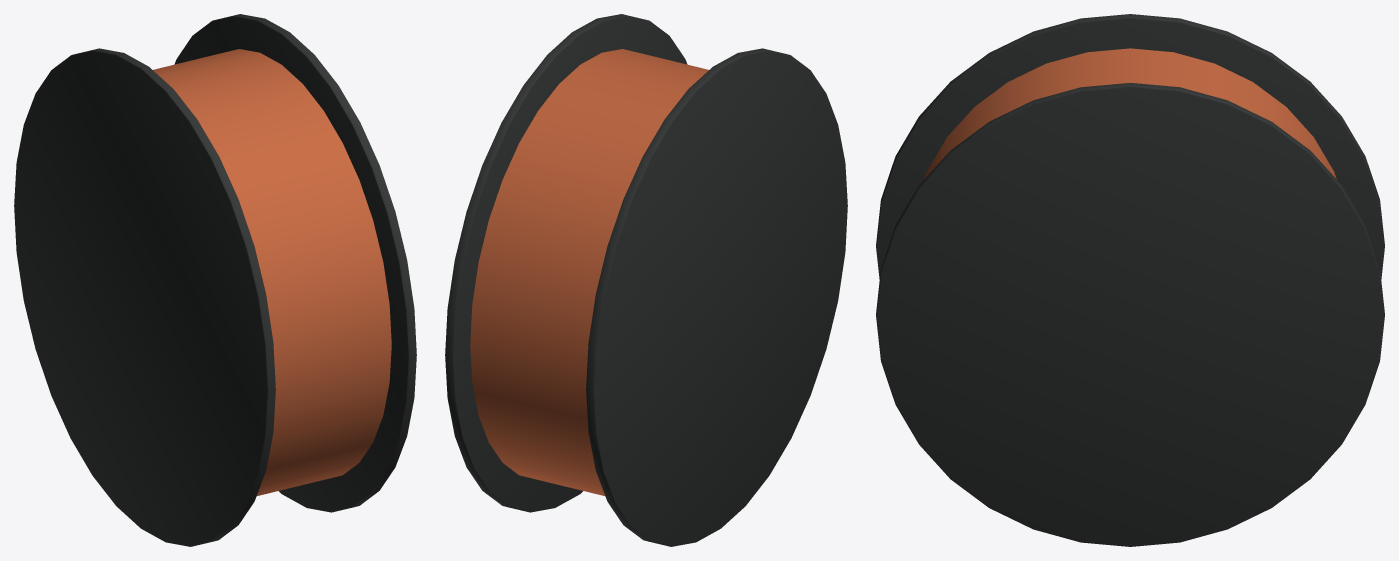
Rendered from wire_feeder_wire_spool.glb.
3 views of the same model, side by side, from view 1: azimuth 30°, elevation 25°; view 2: azimuth 150°, elevation 25°; view 3: azimuth 270°, elevation 25° (orthographic).
Visible parts, largest first — view 1: wire_feeder_wire_spool; view 2: wire_feeder_wire_spool; view 3: wire_feeder_wire_spool.
Boxes of the visible parts, box(x1,y1,x2,y2) form: wire_feeder_wire_spool: box(14, 14, 416, 546); wire_feeder_wire_spool: box(445, 14, 847, 546); wire_feeder_wire_spool: box(876, 14, 1384, 546).
Bounding box in the file's own units: 0.102 × 0.3 × 0.3.
